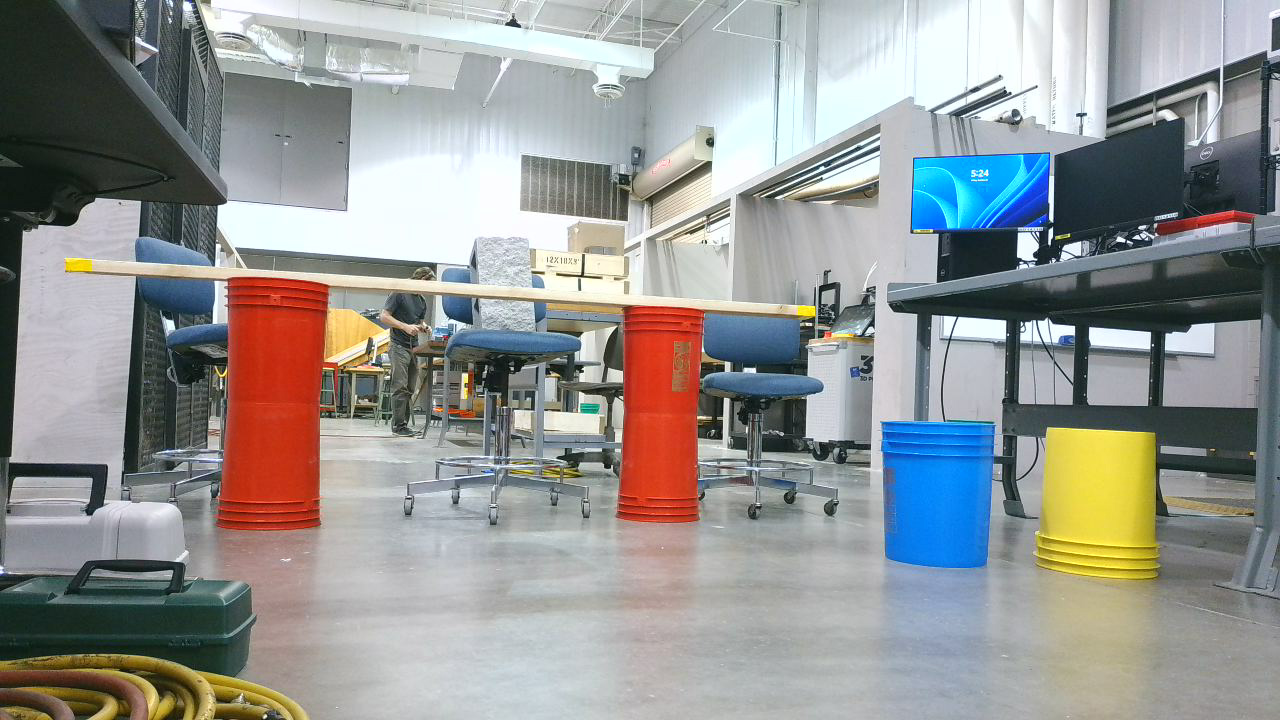blue_bucket: (880, 422, 1008, 579)
red_bucket_arch: (216, 274, 716, 543)
yellow_bucket: (1033, 426, 1173, 589)
